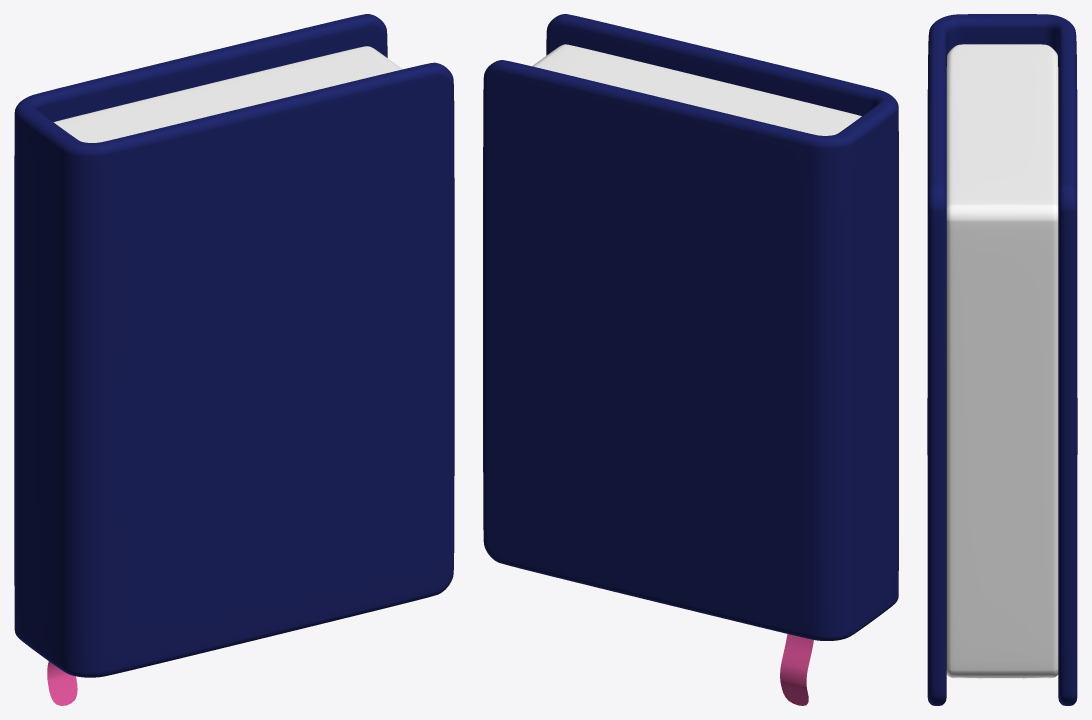
The model's file is dairy.gltf.
The picture shows the model from 3 angles, left to right: view 1: azimuth 30°, elevation 25°; view 2: azimuth 150°, elevation 25°; view 3: azimuth 270°, elevation 25°; orthographic projection. The views are drawn at different scales.
Parts seen in each view (by area): view 1: Cube; view 2: Cube; view 3: Cube.
Part boxes in pixels (x1=…): Cube: x1=14, y1=14, x2=454, y2=705; Cube: x1=483, y1=14, x2=898, y2=705; Cube: x1=927, y1=14, x2=1077, y2=705.
Size of the model in its own units: 1.8 by 2.77 by 0.627.
